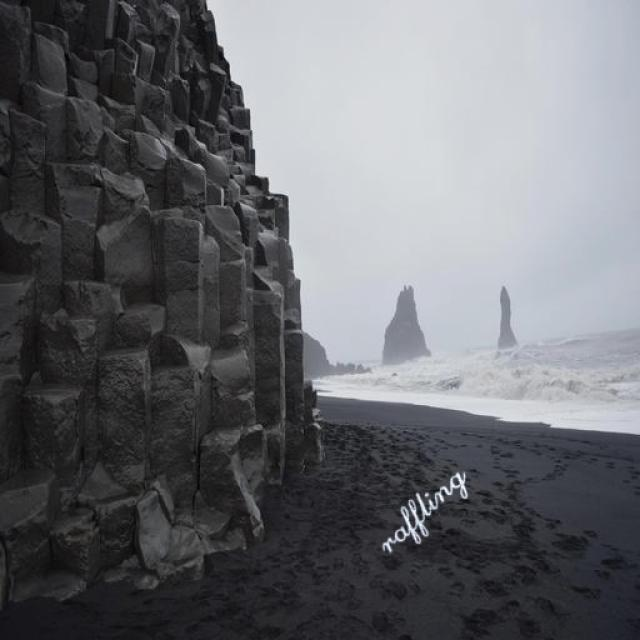watermark: (379, 449, 467, 560)
